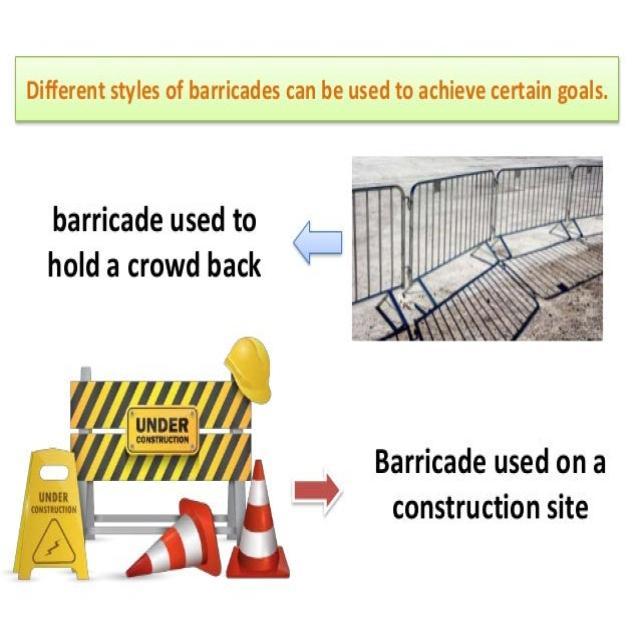cone: (68, 375, 253, 540)
